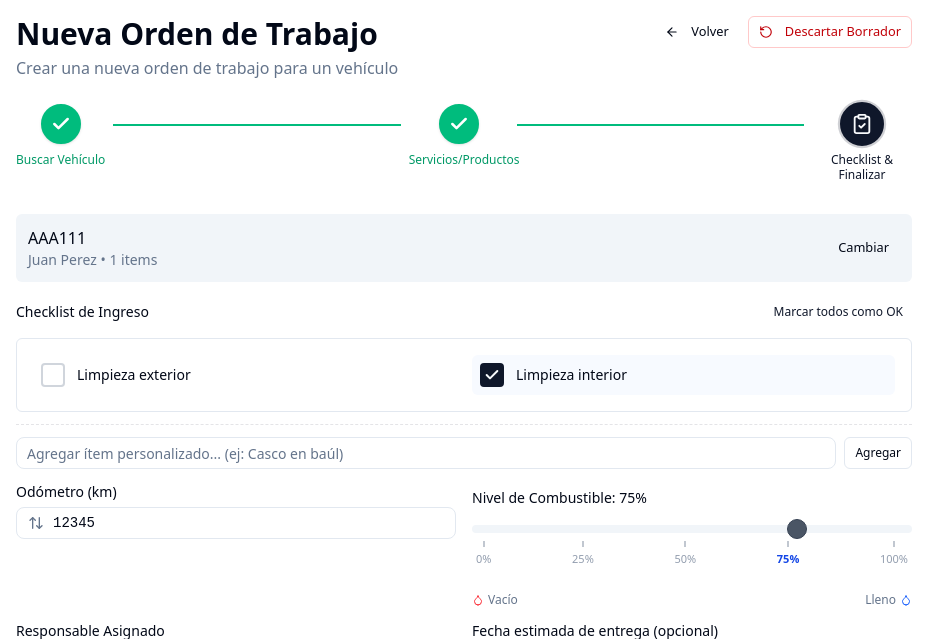
Scenario: NewWorkOrderPage - Dynamic Checklist & Custom Items › should support adding dynamic custom items and deleting them inline
Expected: the text "Checklist de Ingreso" is shown, [16,305,149,319]
// Add custom item
Type "Matafuego cargado" into the field with placeholder "Agregar ítem personalizado... (ej: Casco en baúl)" at [426, 453], box [16,437,836,469]
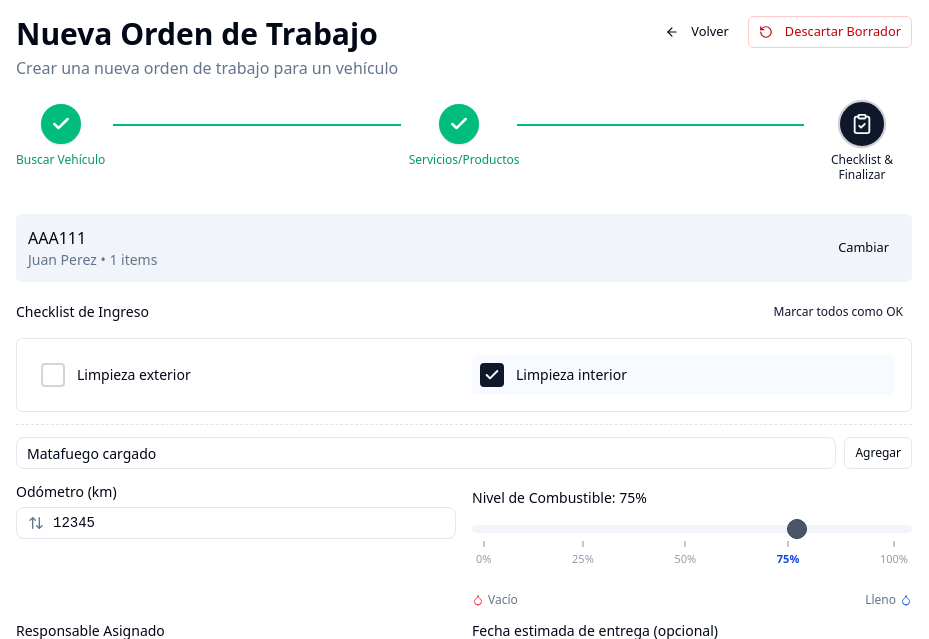
Click the button "Agregar" at [878, 453], box [844,437,912,469]
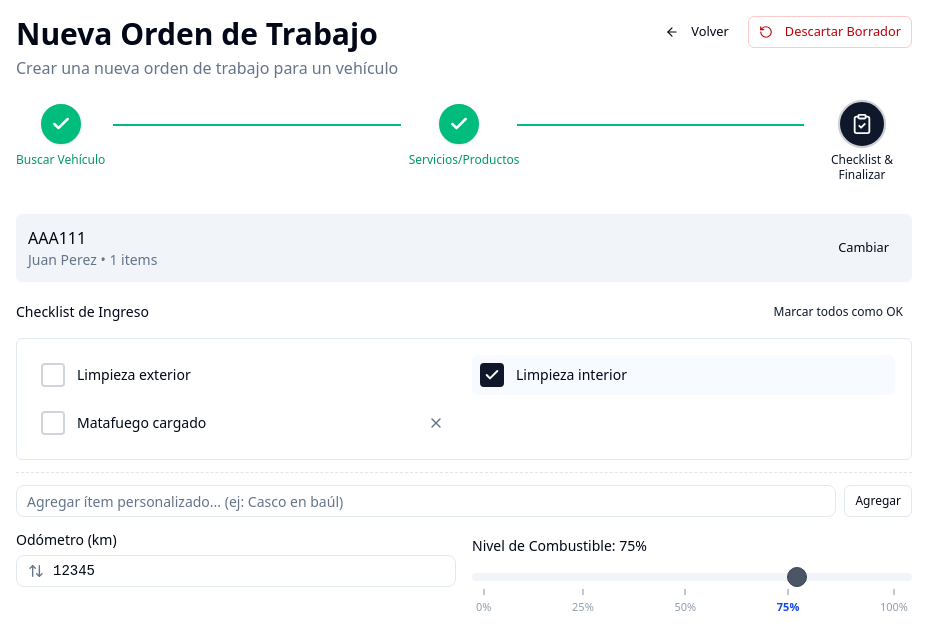
Now the text "Matafuego cargado" is shown, box [77,413,206,433]
Now the checkbox labelled "Matafuego cargado" is not checked
// Toggle custom item
Click the checkbox labelled "Matafuego cargado" at [124, 423], box [41,411,206,435]
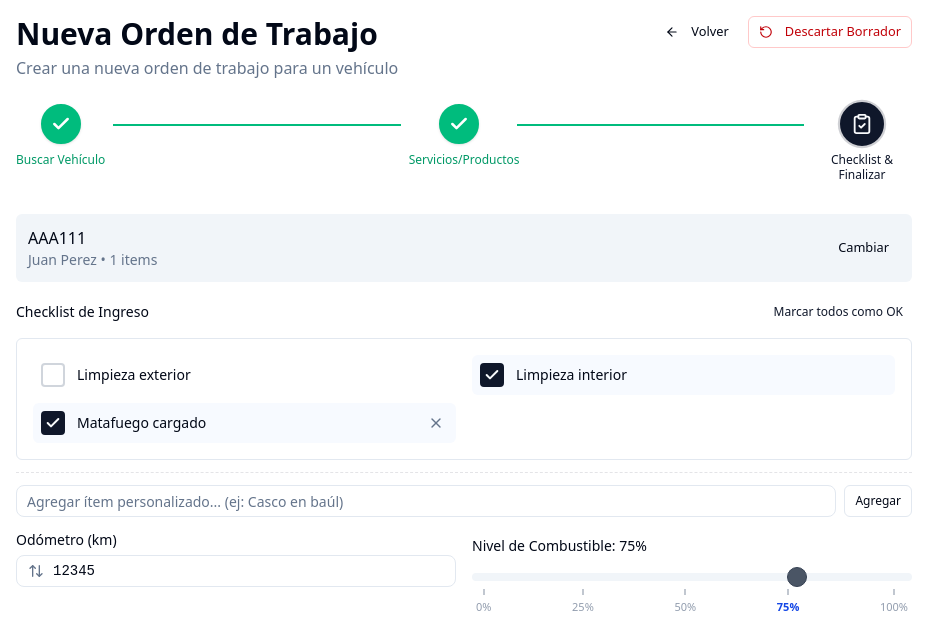
Now the checkbox labelled "Matafuego cargado" is checked, box [41,411,206,435]
// Delete custom item
Click the button titled "Eliminar ítem personalizado" at [436, 423], box [424,411,448,435]
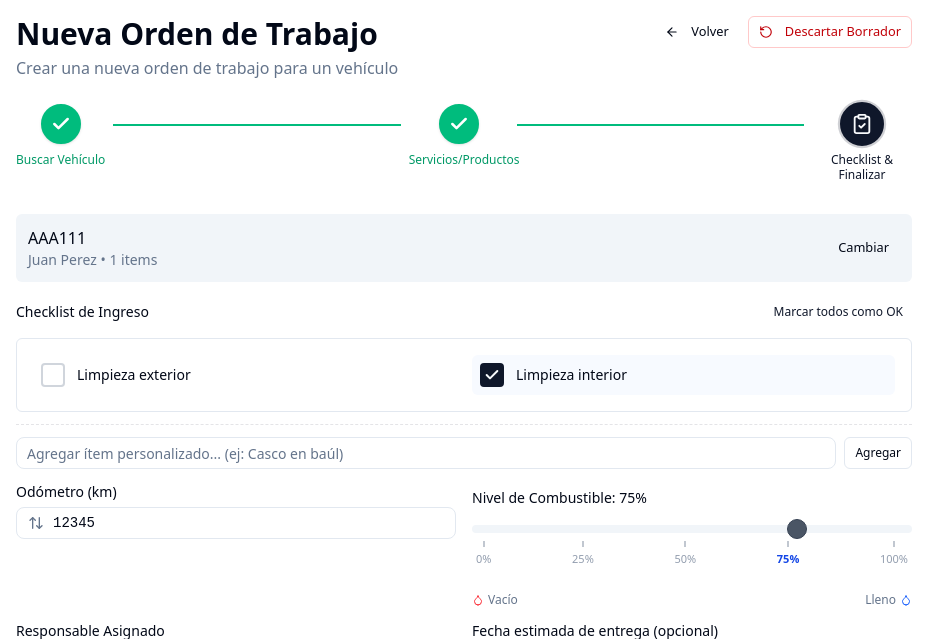
Now the text "Matafuego cargado" is gone
